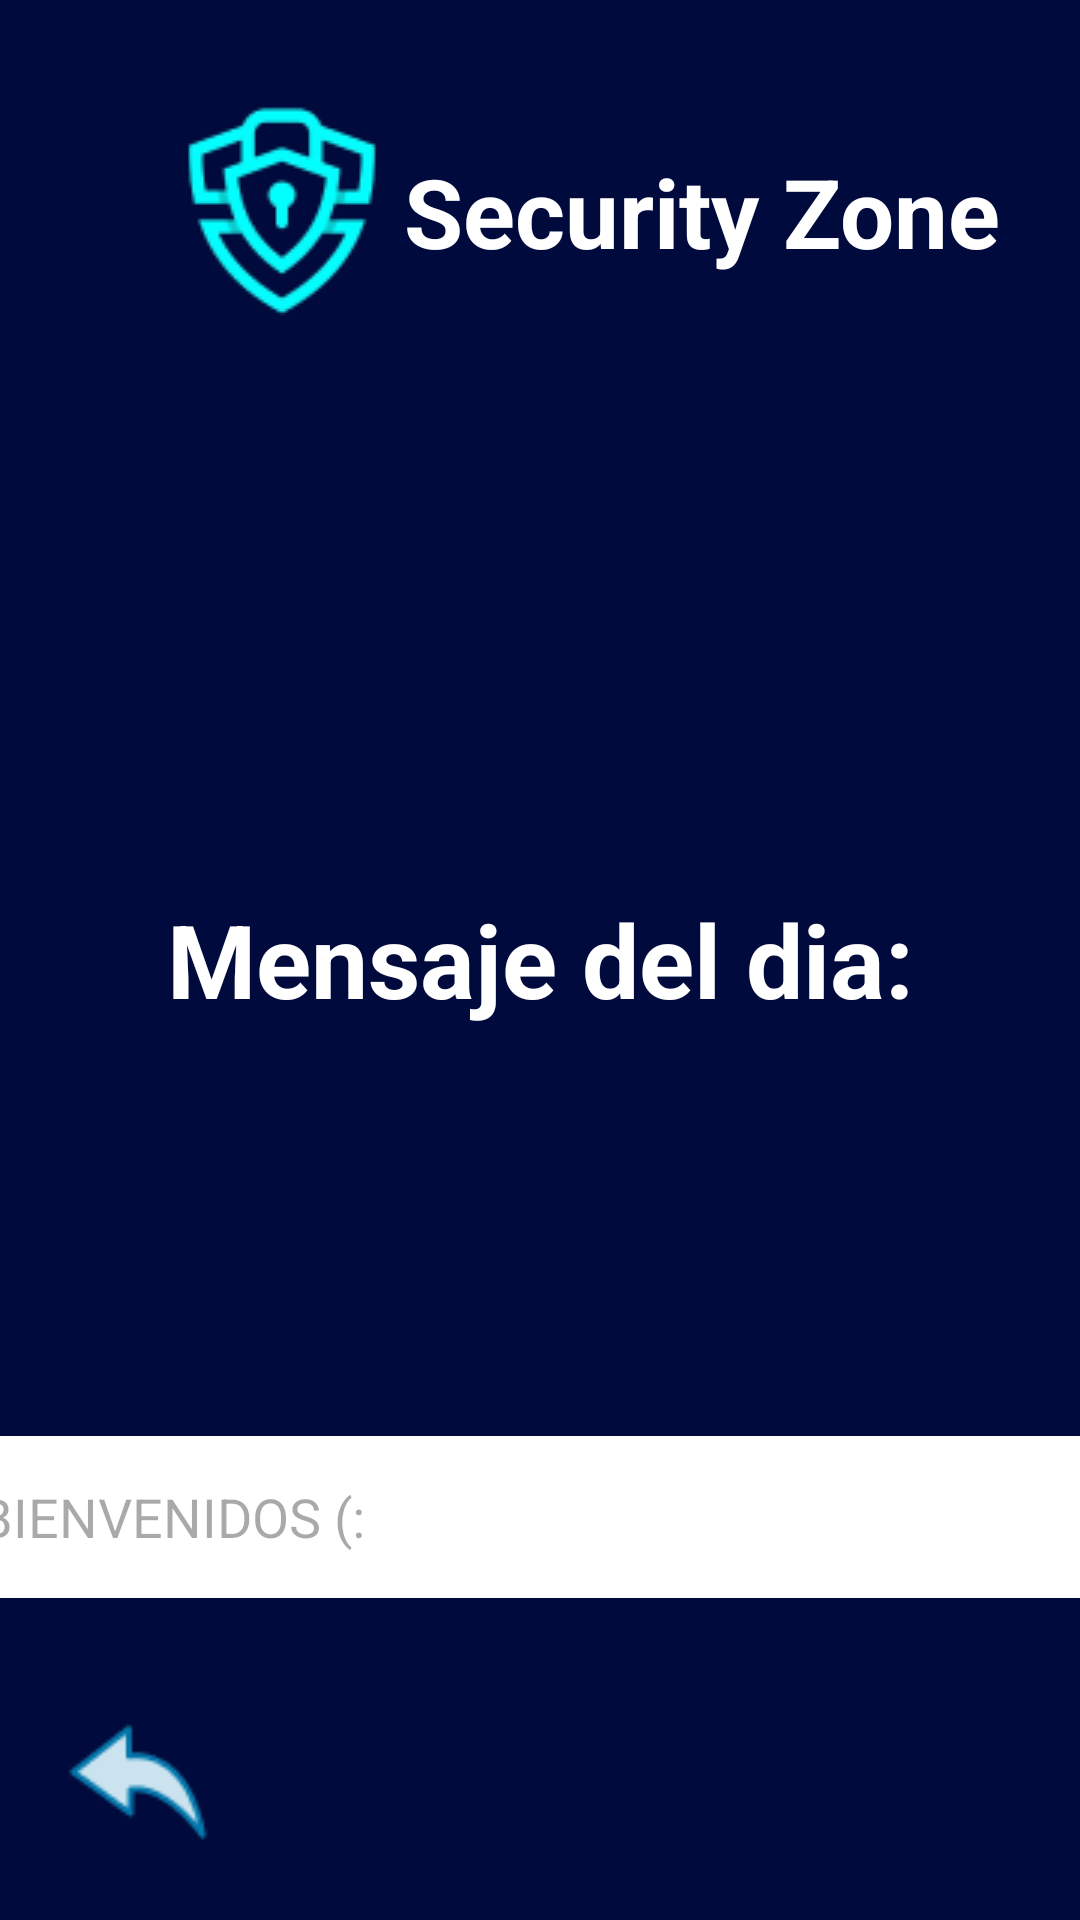

Point at icon controls on the screen. Image size 1080px×1920px, points as (x,y).
atras: (138,1782)
